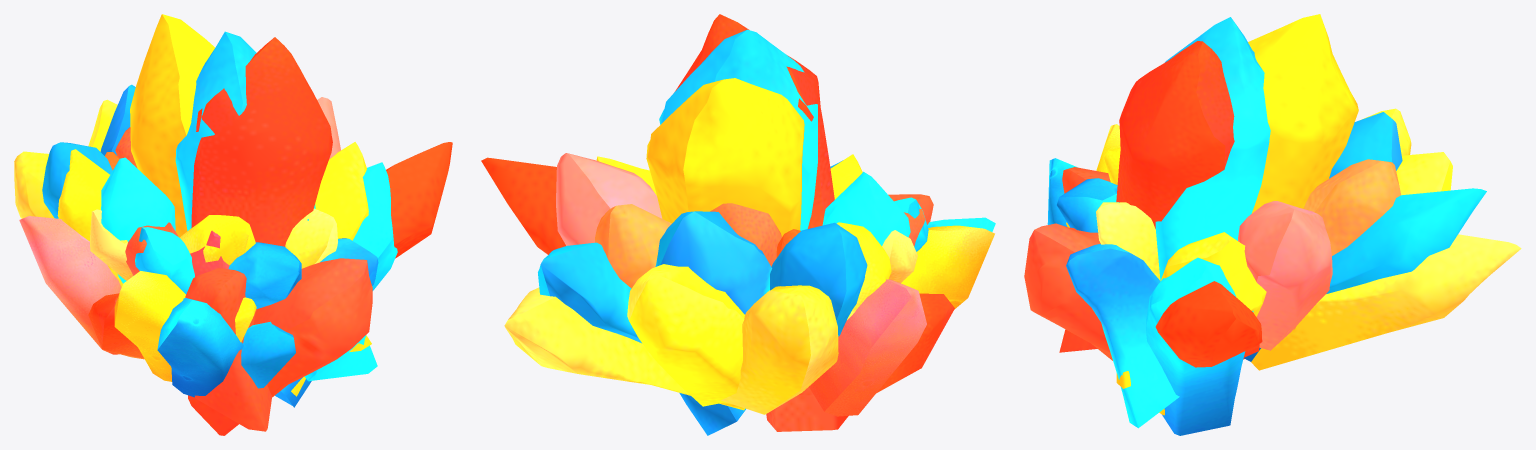
The model's file is cristal.fbx.
The picture shows the model from 3 angles, left to right: view 1: azimuth 30°, elevation 25°; view 2: azimuth 150°, elevation 25°; view 3: azimuth 270°, elevation 25°; orthographic projection. The views are drawn at different scales.
Parts seen in each view (by area): view 1: cristal02_r, cristal02_b, cristal02_y; view 2: cristal02_y, cristal02_r, cristal02_b; view 3: cristal02_r, cristal02_b, cristal02_y.
Boxes of the visible parts, <box> form: cristal02_r: <box>19,37,452,435</box>; cristal02_b: <box>42,31,397,407</box>; cristal02_y: <box>14,14,371,396</box>; cristal02_y: <box>504,78,994,414</box>; cristal02_r: <box>481,14,954,431</box>; cristal02_b: <box>538,29,995,435</box>; cristal02_r: <box>1024,41,1400,367</box>; cristal02_b: <box>1047,17,1486,435</box>; cristal02_y: <box>1066,14,1521,415</box>.
Size of the model in its own units: 106 by 92.18 by 105.
